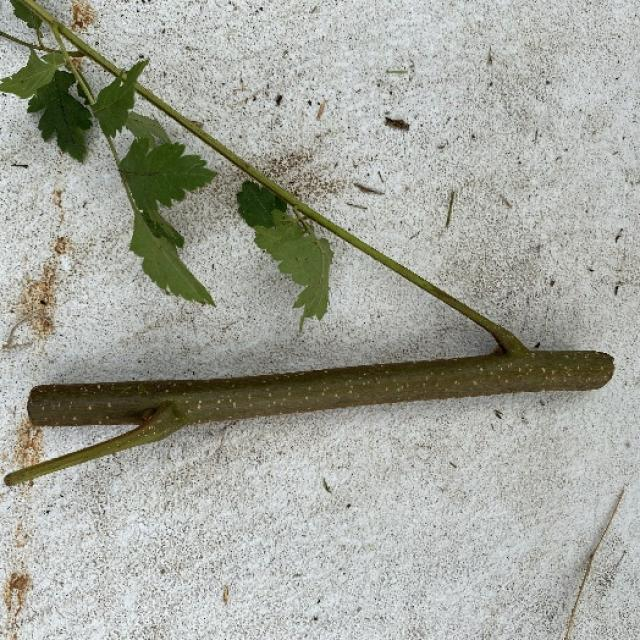organik: (6, 19, 626, 462)
